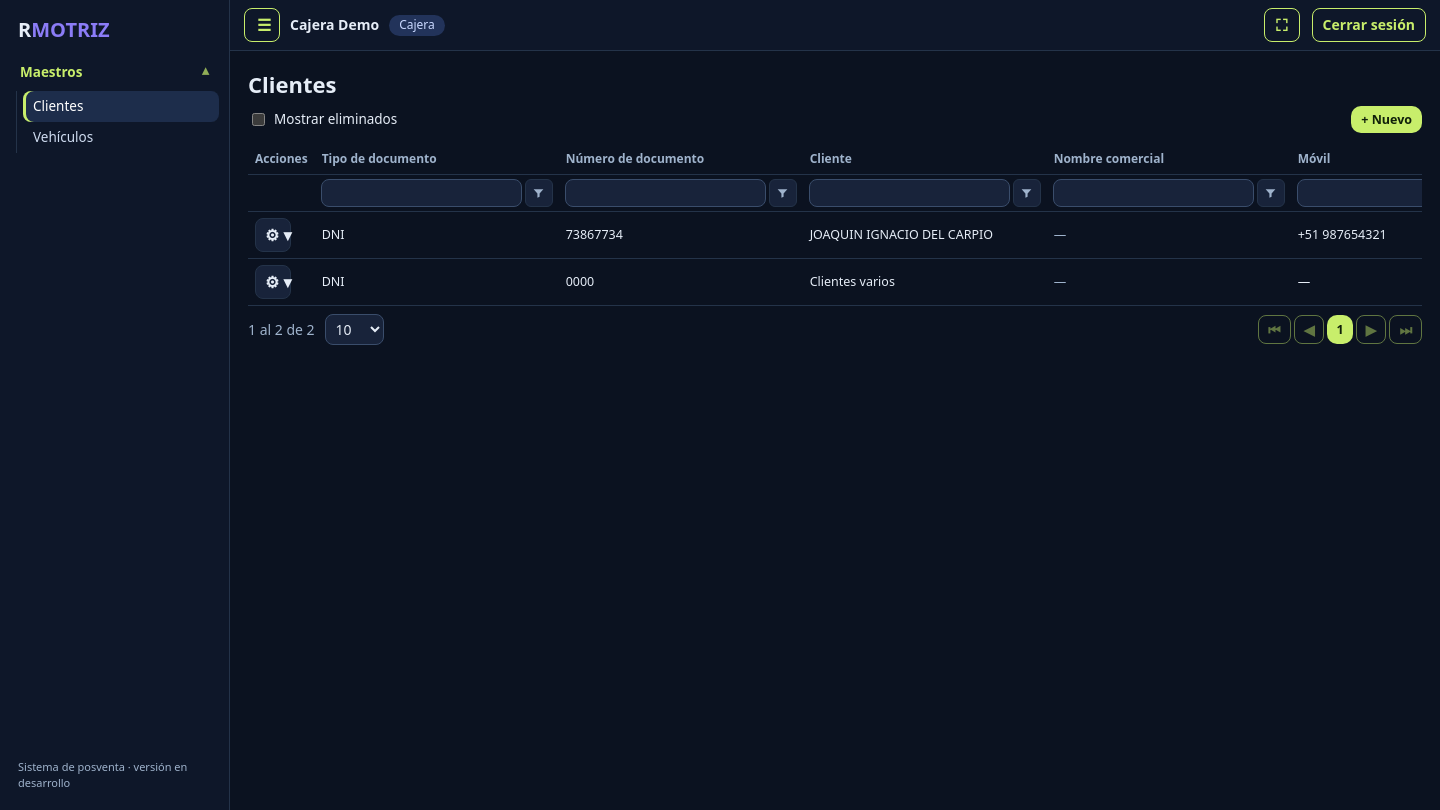
it: Clientes: «+ Nuevo» y «Editar» abren un modal centrado, sin bajar la tabla
Expected: the text "Clientes varios" is shown, [803,259,1047,306]
Click the button named "Acciones" at coordinates (273, 235), box [255,218,291,252]
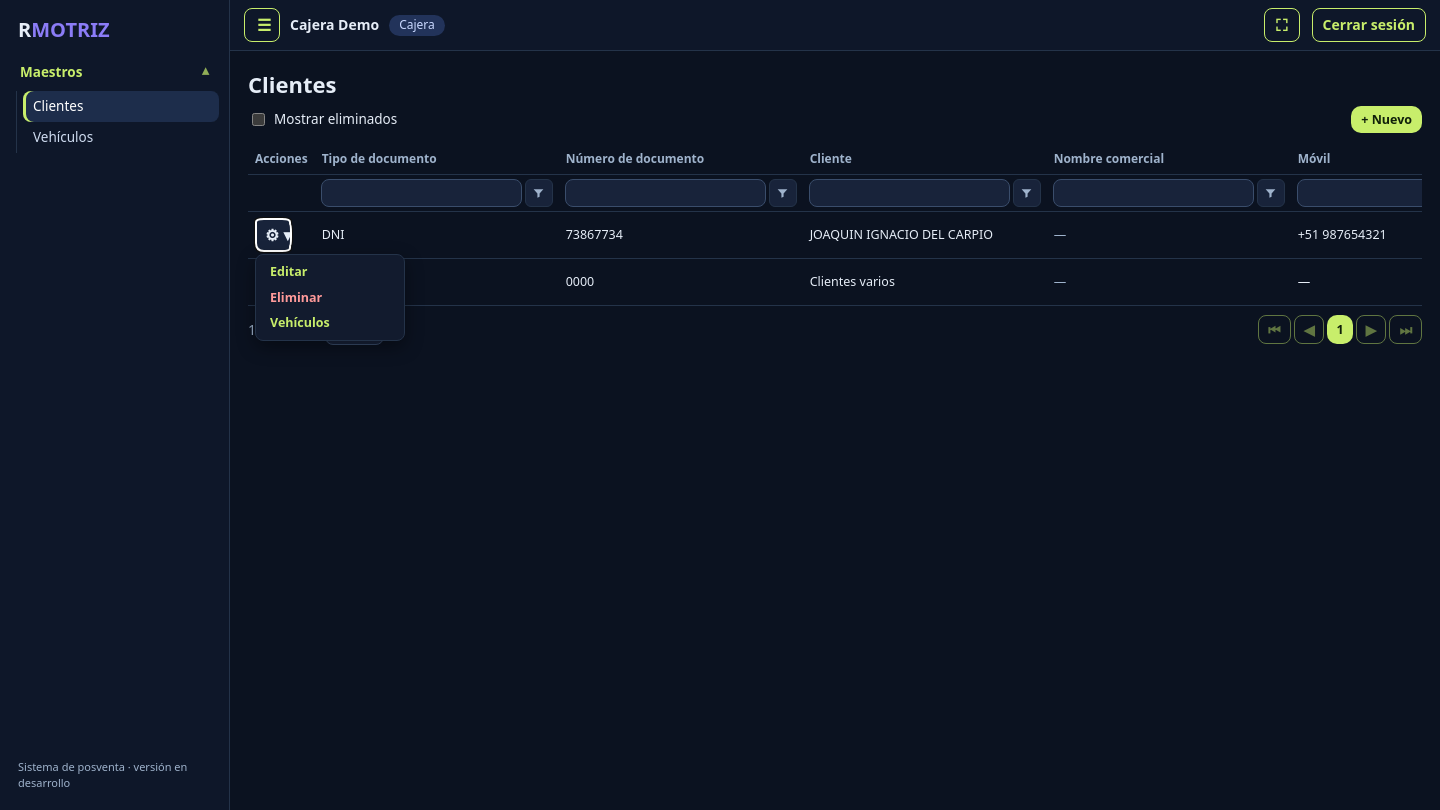
Click the button "Editar" at coordinates (328, 272), box [260,259,396,285]
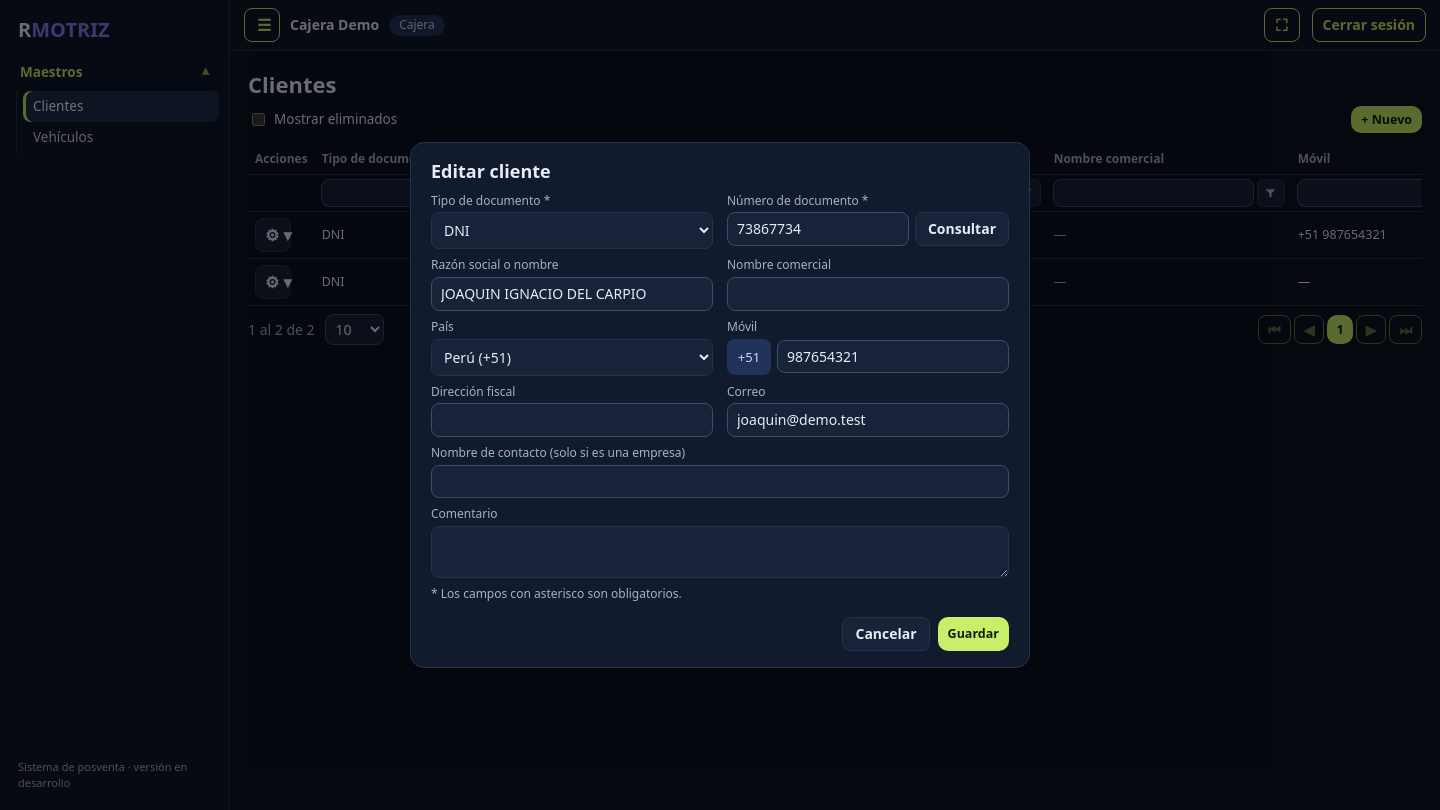
Expected: the dialog "Editar cliente" is shown, [410,142,1030,668]
